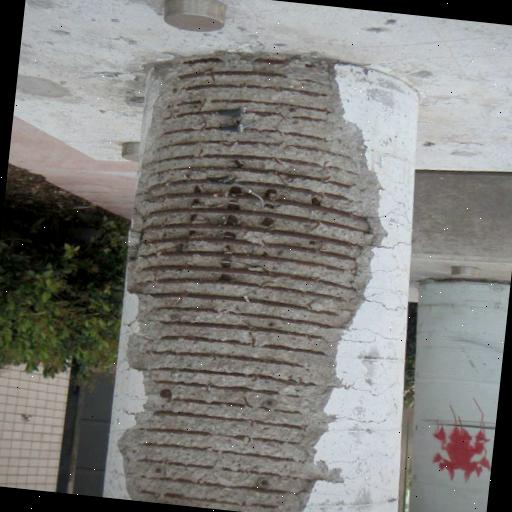spalling: (130, 58, 377, 512)
